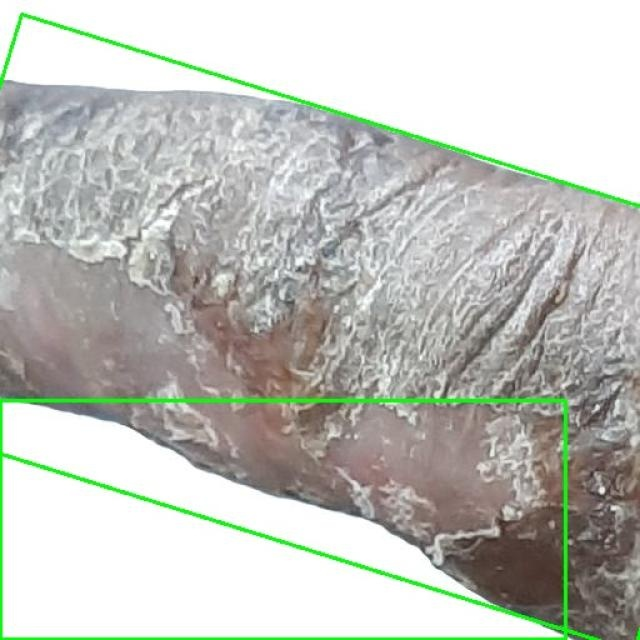Eczema: (0, 15, 640, 640), (0, 400, 565, 639)
